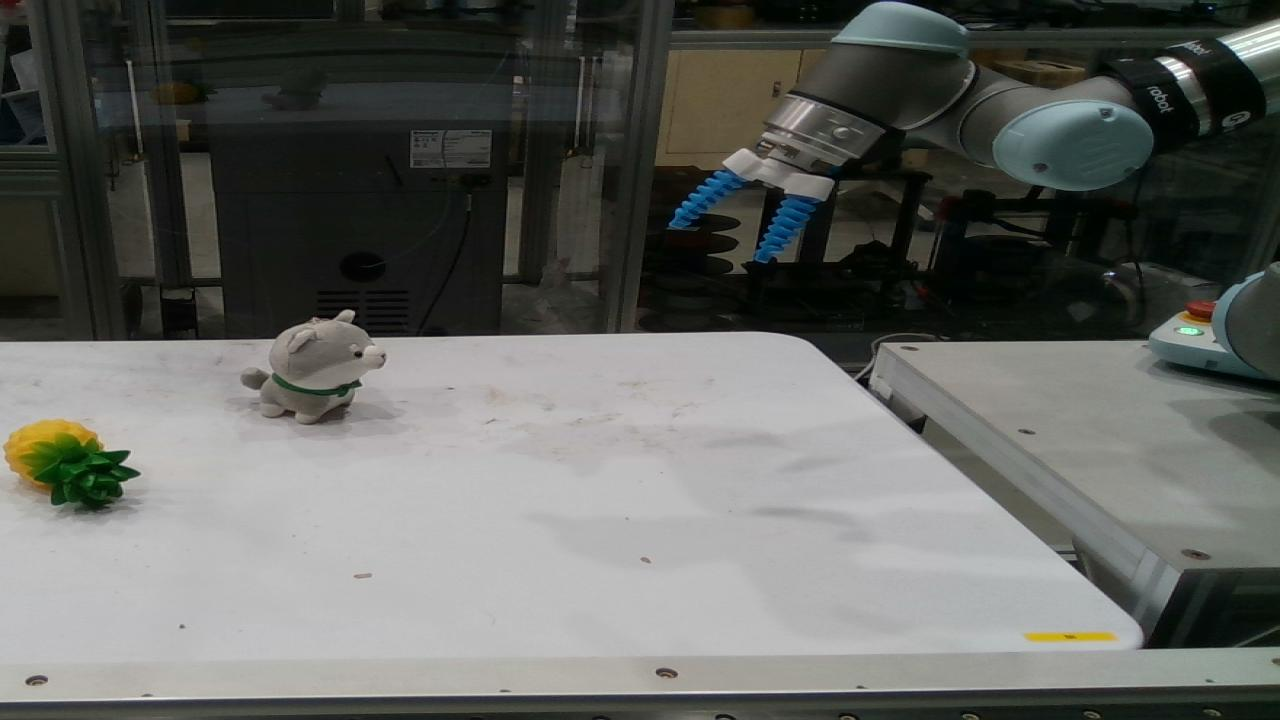UR5: (728, 8, 1278, 198), (1214, 261, 1278, 379)
gripper_left: (676, 171, 740, 228)
gripper_right: (760, 197, 814, 260)
target: (254, 312, 382, 422), (6, 420, 136, 507)
